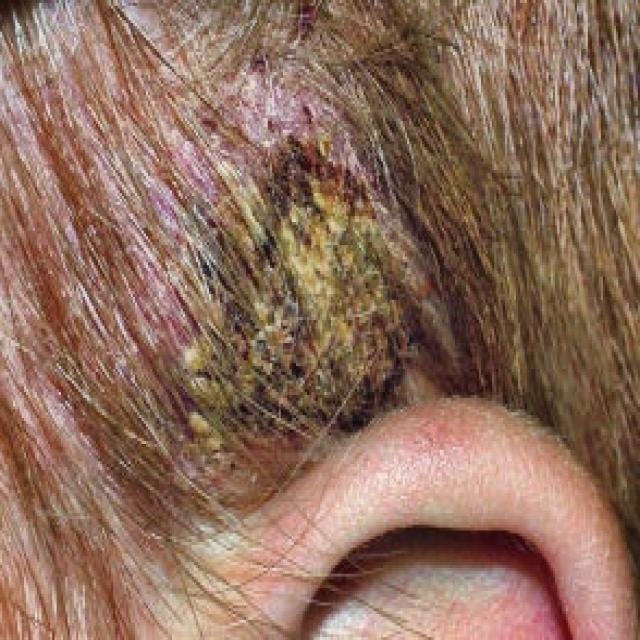Tinea Ringworm Candidiasis and other Fungal Infections: (184, 128, 434, 474)
